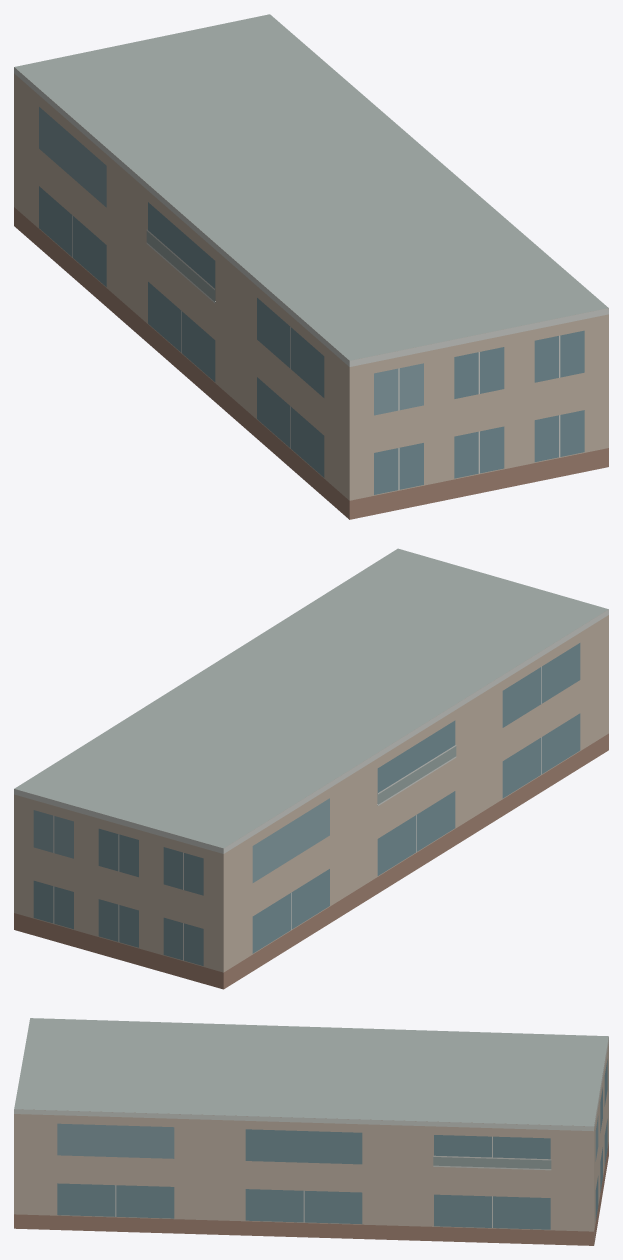
The model's file is survey-upis-32666620.glb.
3 views of the same model, one above another, from view 1: azimuth 30°, elevation 25°; view 2: azimuth 150°, elevation 25°; view 3: azimuth 270°, elevation 25° (orthographic). The views are drawn at different scales.
Parts seen in each view (by area): view 1: survey-upis-32666620.tmp; view 2: survey-upis-32666620.tmp; view 3: survey-upis-32666620.tmp.
Boxes of the visible parts, x1,y1,x2,y2 form: survey-upis-32666620.tmp: [14, 14, 608, 519]; survey-upis-32666620.tmp: [14, 548, 608, 989]; survey-upis-32666620.tmp: [14, 1018, 608, 1245].
Bounding box in the file's own units: 11.87 × 6.1 × 27.53.
